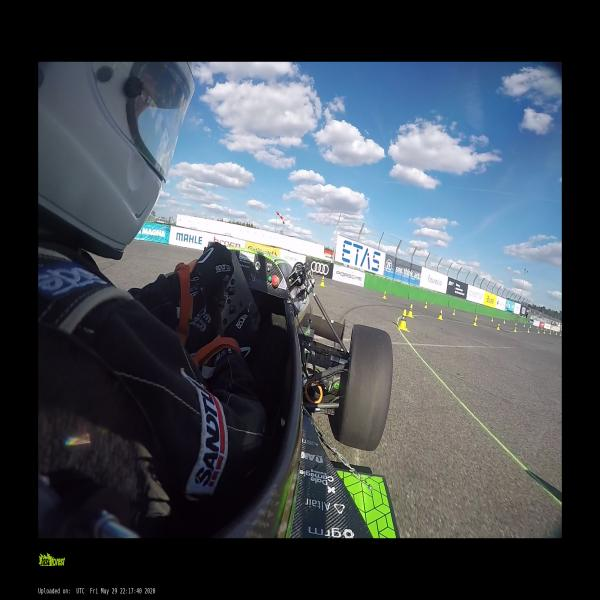yellow_cone: (398, 310, 407, 330), (408, 304, 413, 318), (320, 276, 325, 286), (438, 310, 443, 319), (473, 318, 477, 326), (424, 301, 428, 309), (496, 324, 500, 331), (383, 291, 386, 299), (475, 314, 478, 320), (491, 316, 494, 321), (514, 328, 517, 332), (503, 320, 506, 324), (453, 310, 455, 316), (538, 329, 540, 334), (524, 323, 526, 327), (528, 329, 530, 333), (544, 330, 546, 334), (556, 332, 558, 336), (515, 322, 517, 326), (549, 330, 551, 334), (530, 325, 531, 329)
